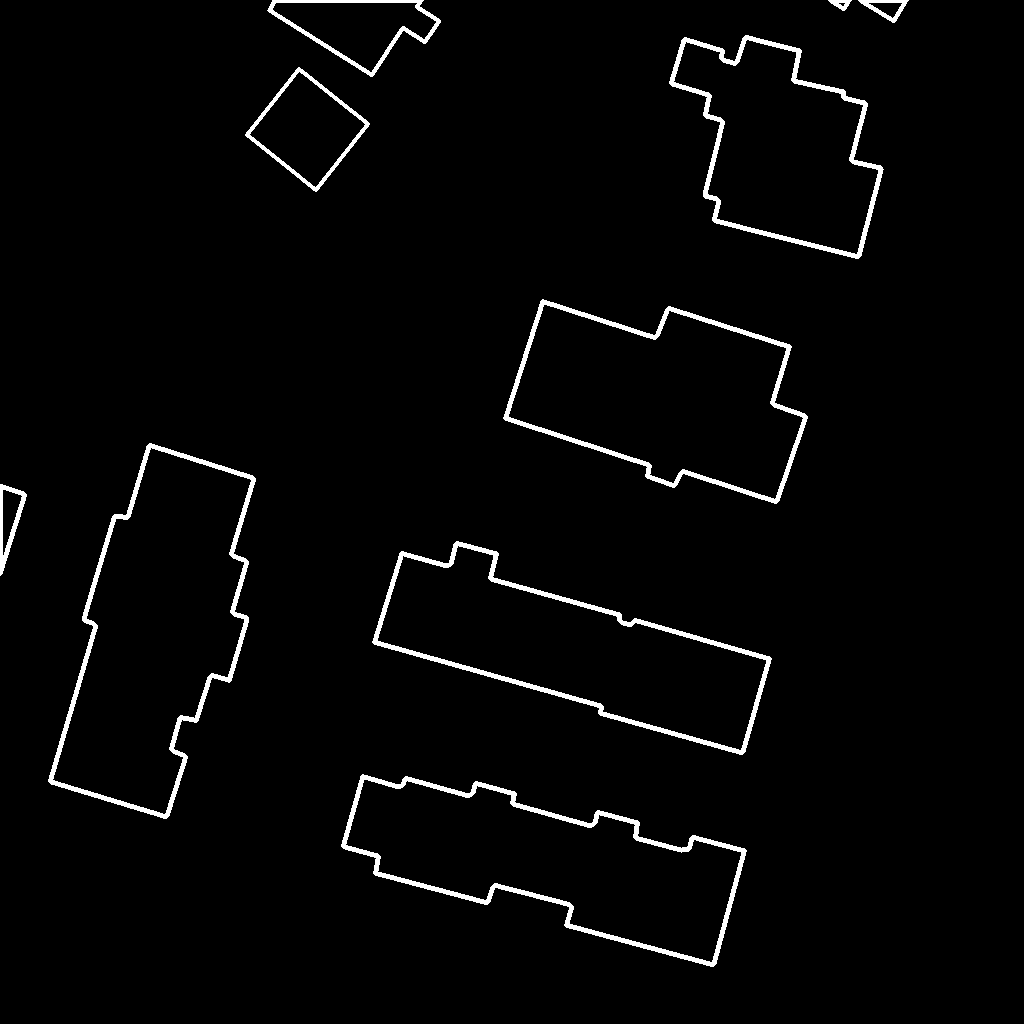building: (374, 543, 771, 754), (343, 776, 746, 966), (50, 445, 255, 818), (505, 301, 807, 503), (671, 37, 882, 258), (247, 69, 369, 191), (269, 0, 440, 76), (0, 486, 26, 576), (829, 0, 908, 22)
